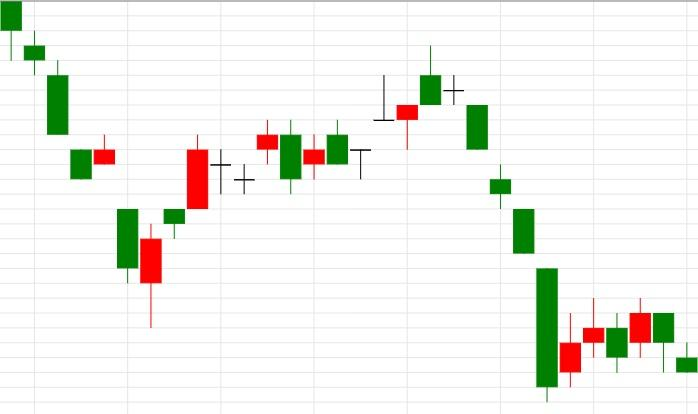bearish_engulfing_fall: (139, 119, 303, 328)
